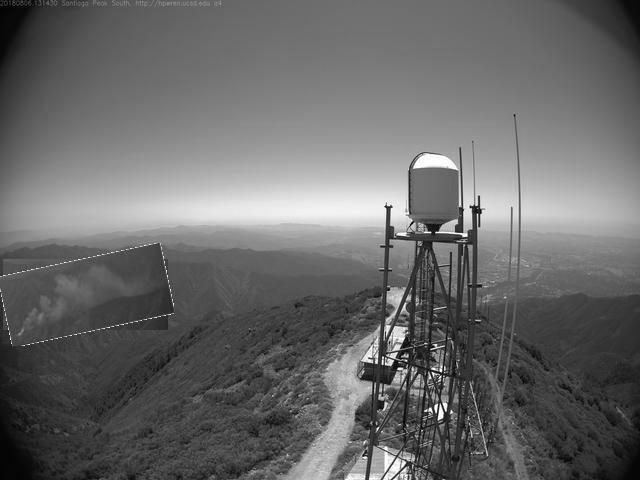smoke: (1, 252, 173, 340)
